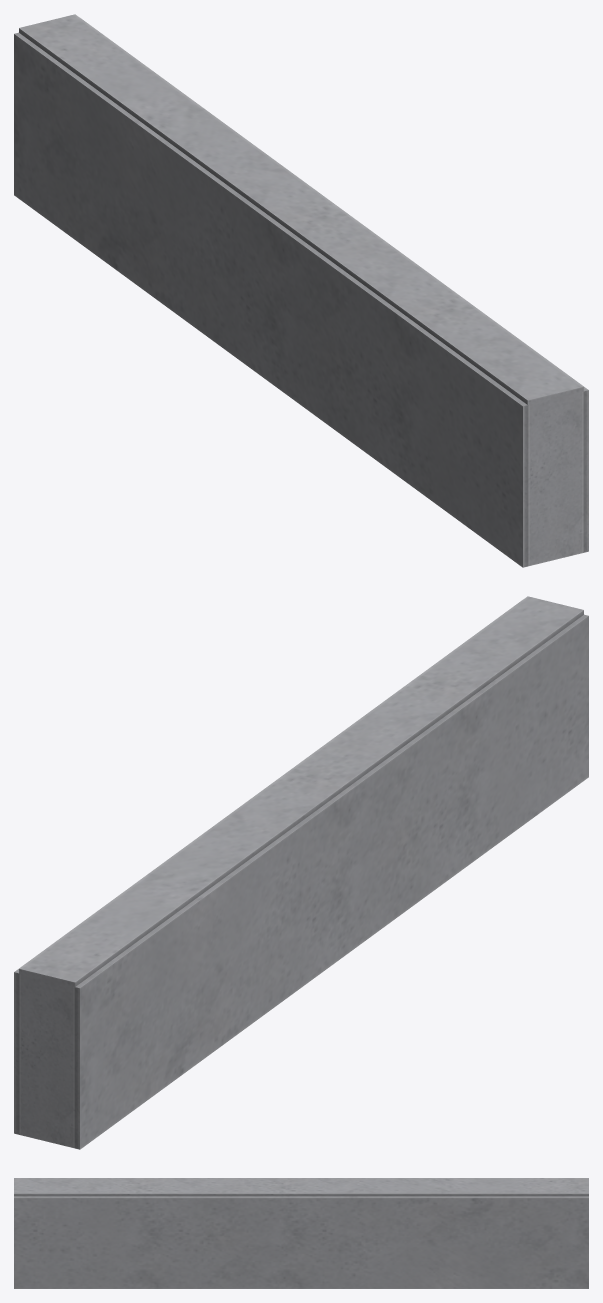
Rendered from set_curb_straight_01.fbx.
3 renders of one model, top to bottom at view 1: azimuth 30°, elevation 25°; view 2: azimuth 150°, elevation 25°; view 3: azimuth 270°, elevation 25°, orthographic. The views are drawn at different scales.
Parts seen in each view (by area): view 1: set_curb_straight_01; view 2: set_curb_straight_01; view 3: set_curb_straight_01.
Part boxes in pixels (x1,y1,x2,y2): set_curb_straight_01: (14,14,588,567); set_curb_straight_01: (14,596,588,1149); set_curb_straight_01: (14,1178,588,1288).
Size of the model in its own units: 30 by 72 by 400.
